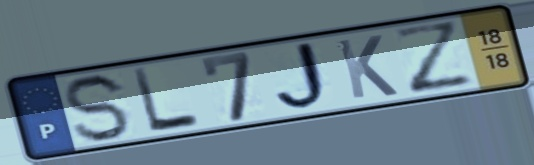7: (197, 48, 257, 125)
J: (273, 38, 338, 115)
K: (333, 33, 402, 102)
L: (128, 65, 204, 136)
S: (62, 71, 135, 145)
Z: (388, 18, 479, 98)
